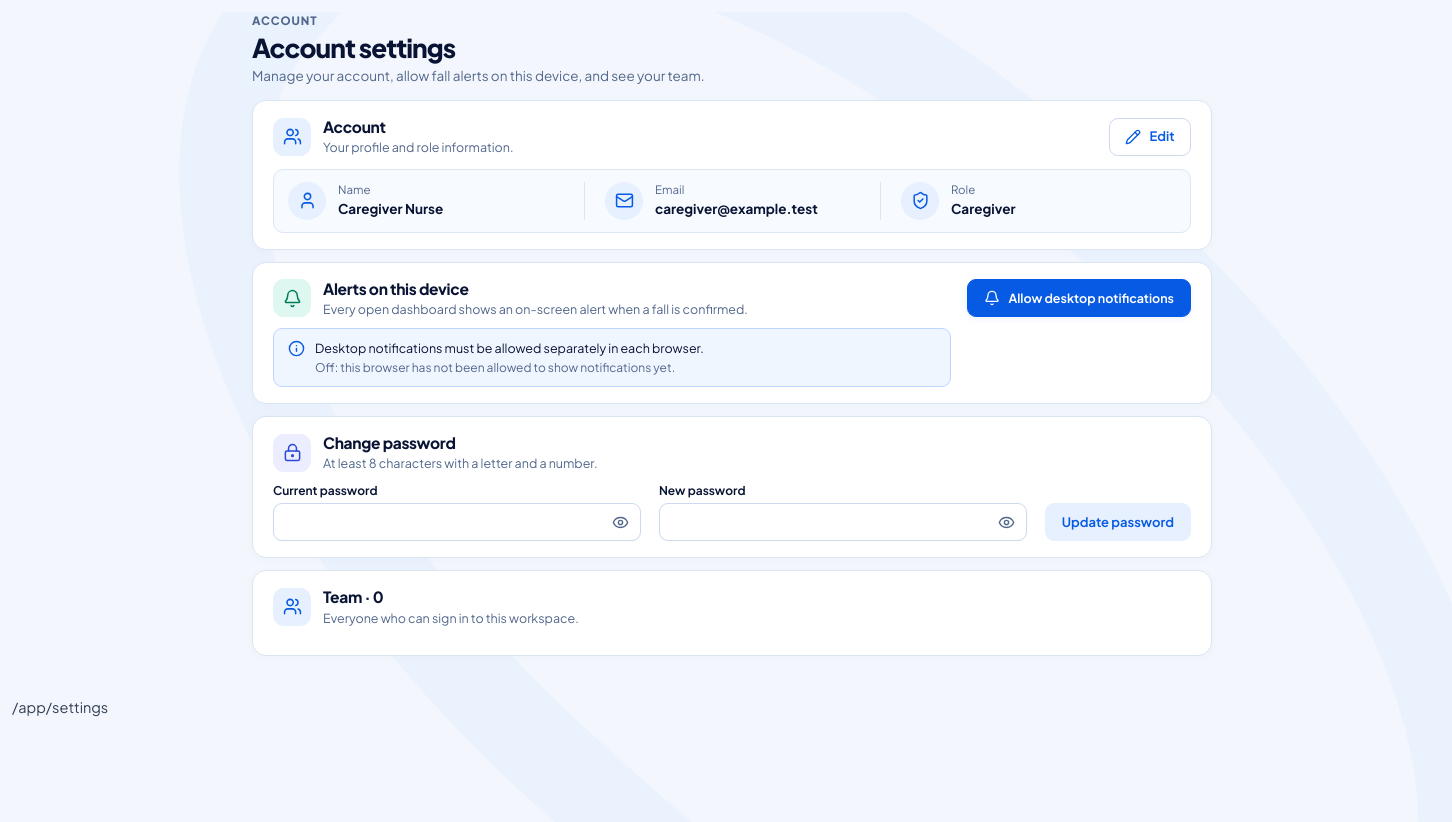
Test case: Account settings reference controls › requests notification permission only after the user acts and updates the status
Click the button "Allow desktop notifications".
click(1079, 298)  # box 967,279 -> 1191,317
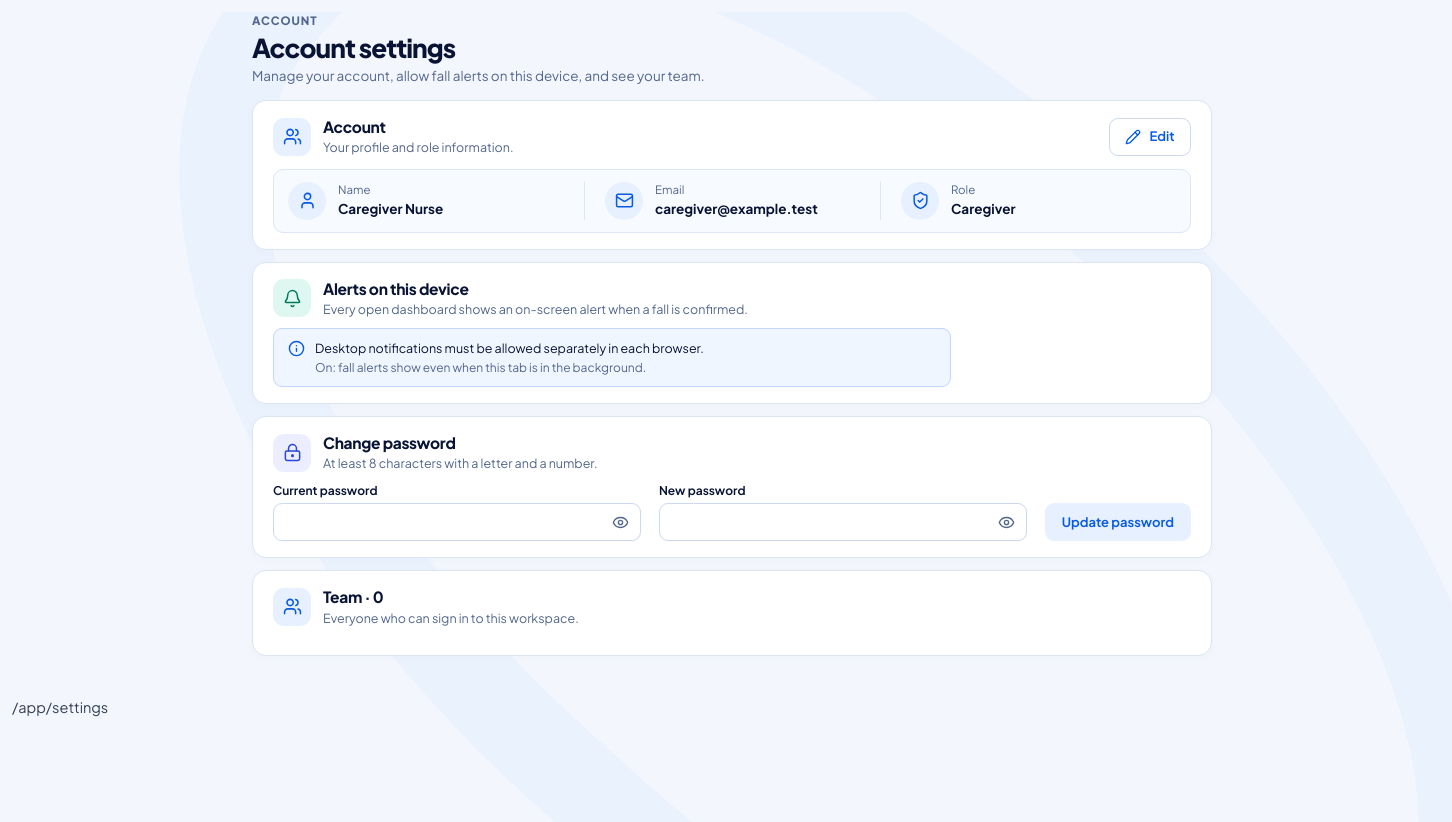
expect the text "On: fall alerts show" is shown: met, box 315,360 -> 646,375
expect the button "Allow desktop notifications" is gone: met
